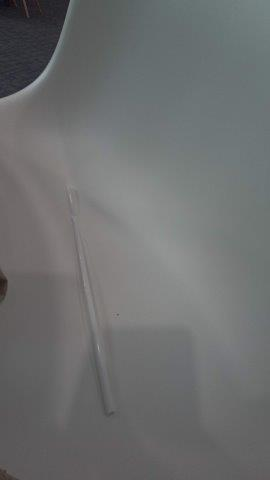sedotan: (66, 186, 113, 415)
